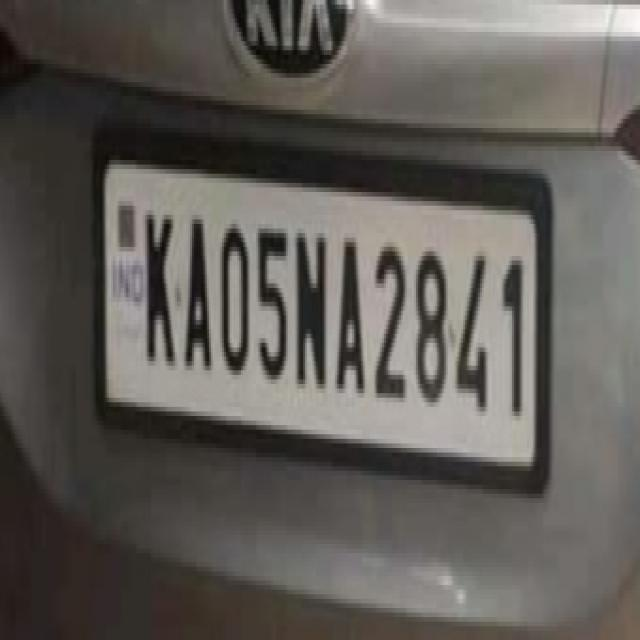0: (219, 209, 254, 381)
1: (498, 242, 527, 420)
4: (454, 241, 492, 414)
5: (254, 212, 290, 384)
8: (415, 236, 448, 407)
A: (181, 198, 216, 388), (334, 237, 369, 406)
K: (142, 192, 176, 370)
N: (294, 220, 330, 390)
